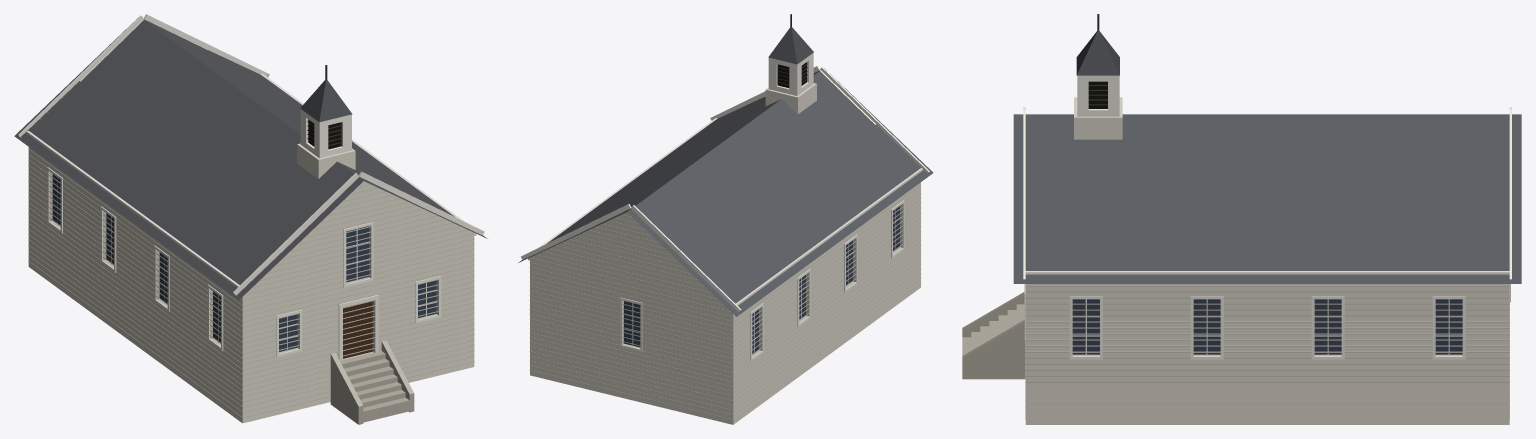
Rendered from ch-forest-park-methodist-1961.glb.
The picture shows the model from 3 angles, left to right: view 1: azimuth 30°, elevation 25°; view 2: azimuth 150°, elevation 25°; view 3: azimuth 270°, elevation 25°; orthographic projection. The views are drawn at different scales.
Visible parts, largest first — view 1: ch_brick, ch_roof, ch_brick2, ch_trim, ch_conc, ch_stain, ch_door, ch_roof2, ch_shadow; view 2: ch_brick, ch_roof, ch_brick2, ch_trim, ch_stain, ch_roof2; view 3: ch_roof, ch_brick, ch_brick2, ch_trim, ch_stain, ch_conc, ch_roof2.
Boxes of the visible parts, x1,y1,x2,y2 form: ch_brick: (28, 143, 474, 423); ch_roof: (14, 17, 487, 300); ch_brick2: (28, 40, 474, 418); ch_trim: (18, 14, 484, 361); ch_conc: (330, 340, 414, 424); ch_stain: (52, 174, 436, 351); ch_door: (343, 301, 372, 358); ch_roof2: (300, 80, 352, 122); ch_shadow: (308, 119, 341, 149); ch_brick: (530, 83, 920, 424); ch_roof: (518, 68, 933, 316); ch_brick2: (529, 89, 921, 420); ch_trim: (521, 53, 929, 361); ch_stain: (624, 206, 899, 353); ch_roof2: (768, 27, 813, 64); ch_roof: (1013, 114, 1521, 283); ch_brick: (1025, 97, 1509, 424); ch_brick2: (1025, 284, 1509, 418); ch_trim: (1023, 75, 1511, 359); ch_stain: (1072, 299, 1462, 354); ch_conc: (962, 292, 1025, 379); ch_roof2: (1076, 31, 1119, 75).
Bounding box in the file's own units: 10.83 × 12.75 × 18.5.
